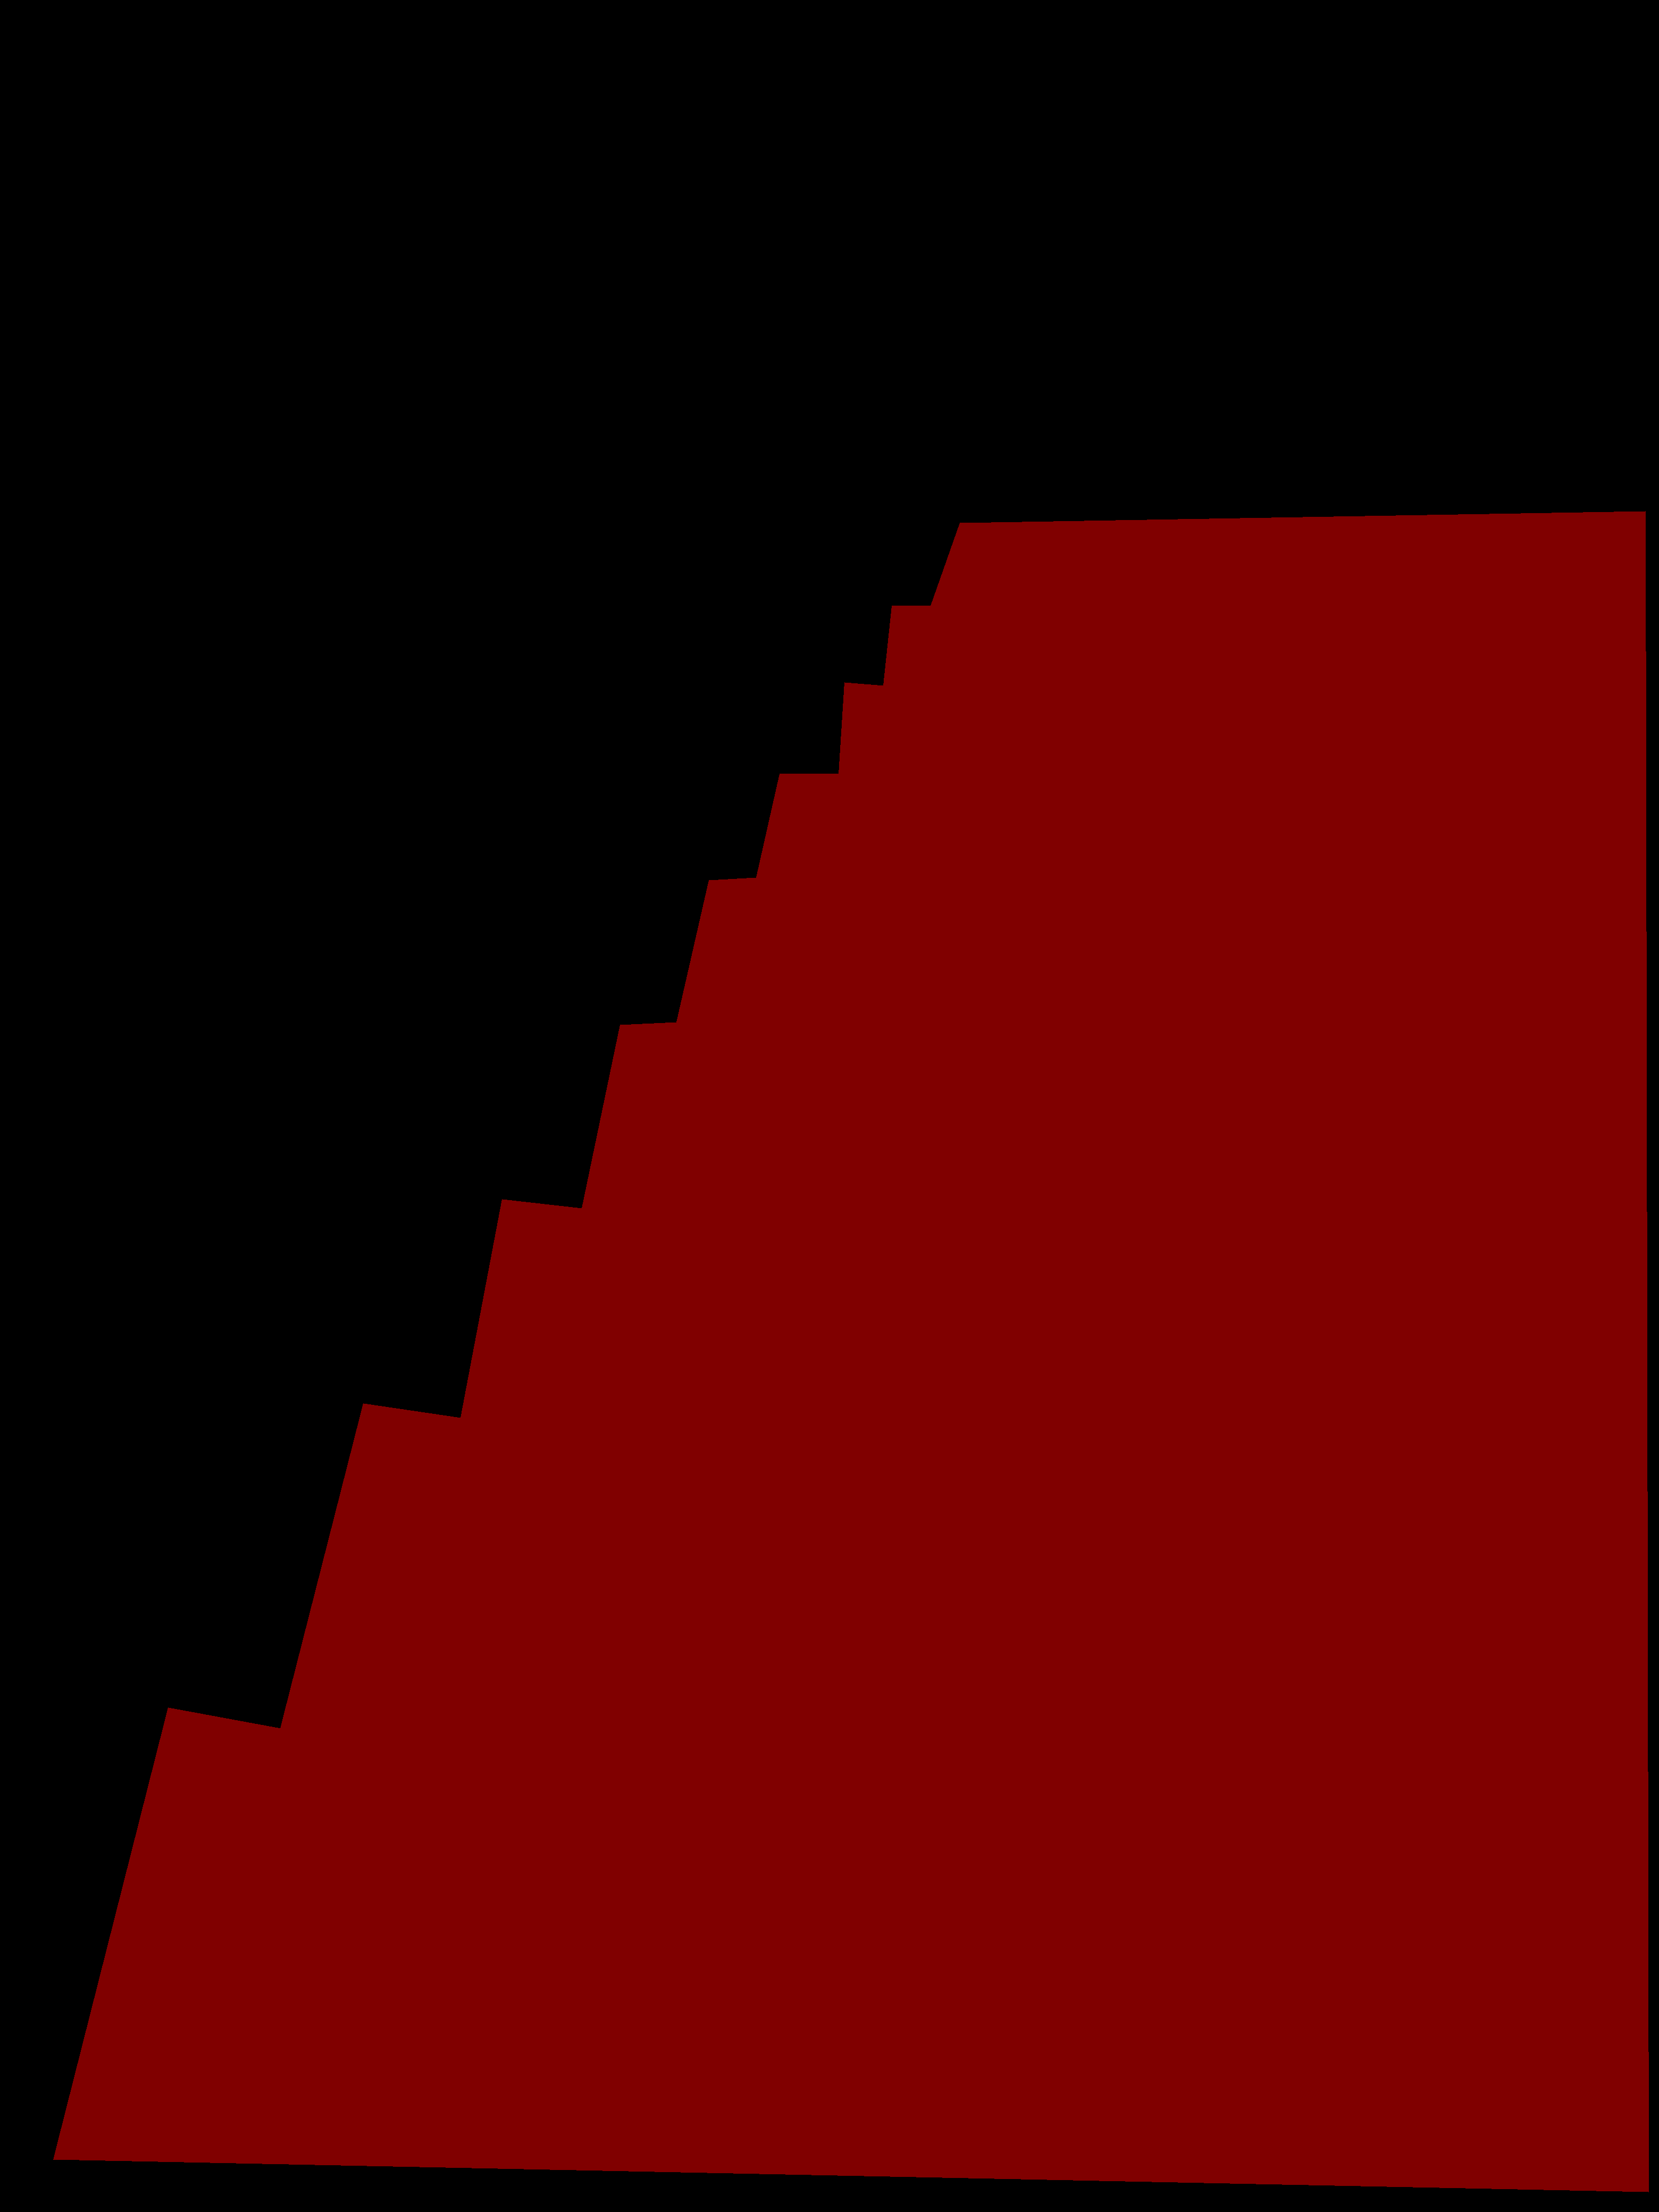stair: (54, 510, 1649, 2191)
